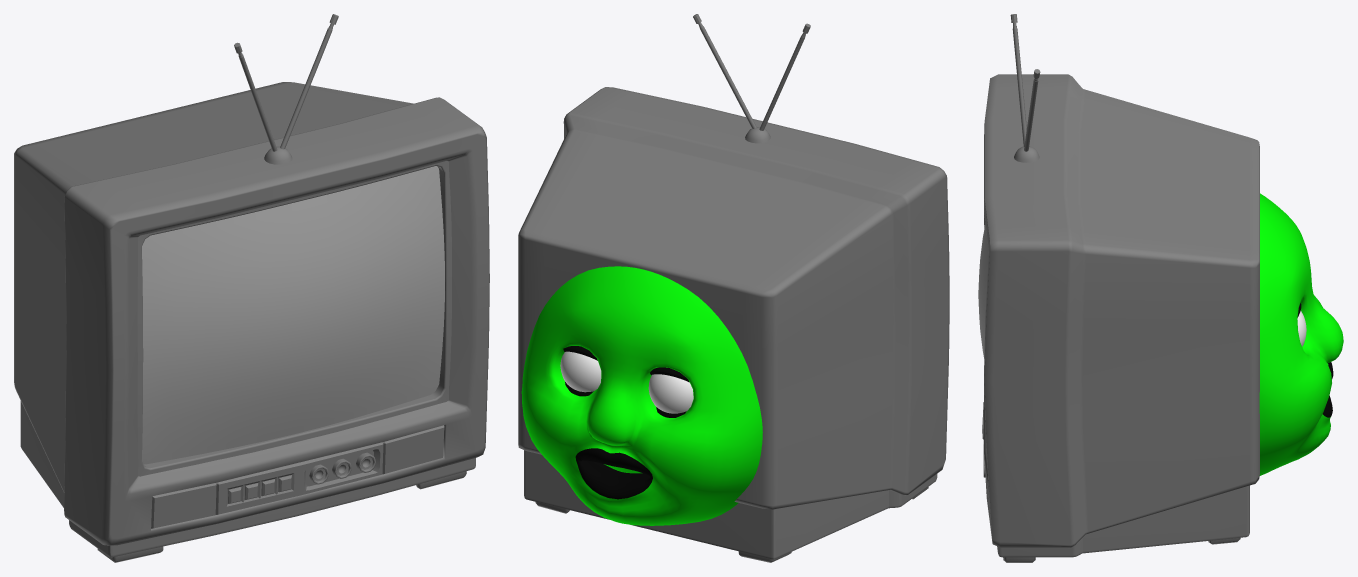
The model's file is tvBuddy.fbx.
The picture shows the model from 3 angles, left to right: view 1: azimuth 30°, elevation 25°; view 2: azimuth 150°, elevation 25°; view 3: azimuth 270°, elevation 25°; orthographic projection. The views are drawn at different scales.
Visible parts, largest first — view 1: tvBody, antennae; view 2: tvBody, Face_face, leftEye, rightEye, antennae; view 3: tvBody, Face_face, antennae.
Boxes of the visible parts, bbox=[...] form: tvBody: bbox=[14, 82, 489, 562]; antennae: bbox=[234, 14, 338, 151]; tvBody: bbox=[518, 87, 949, 562]; Face_face: bbox=[521, 266, 762, 525]; leftEye: bbox=[648, 374, 693, 413]; rightEye: bbox=[560, 351, 601, 392]; antennae: bbox=[693, 14, 810, 130]; tvBody: bbox=[978, 74, 1259, 562]; Face_face: bbox=[1259, 193, 1343, 475]; antennae: bbox=[1010, 14, 1040, 151].
Size of the model in its own units: 38.33 by 46.55 by 34.33.
